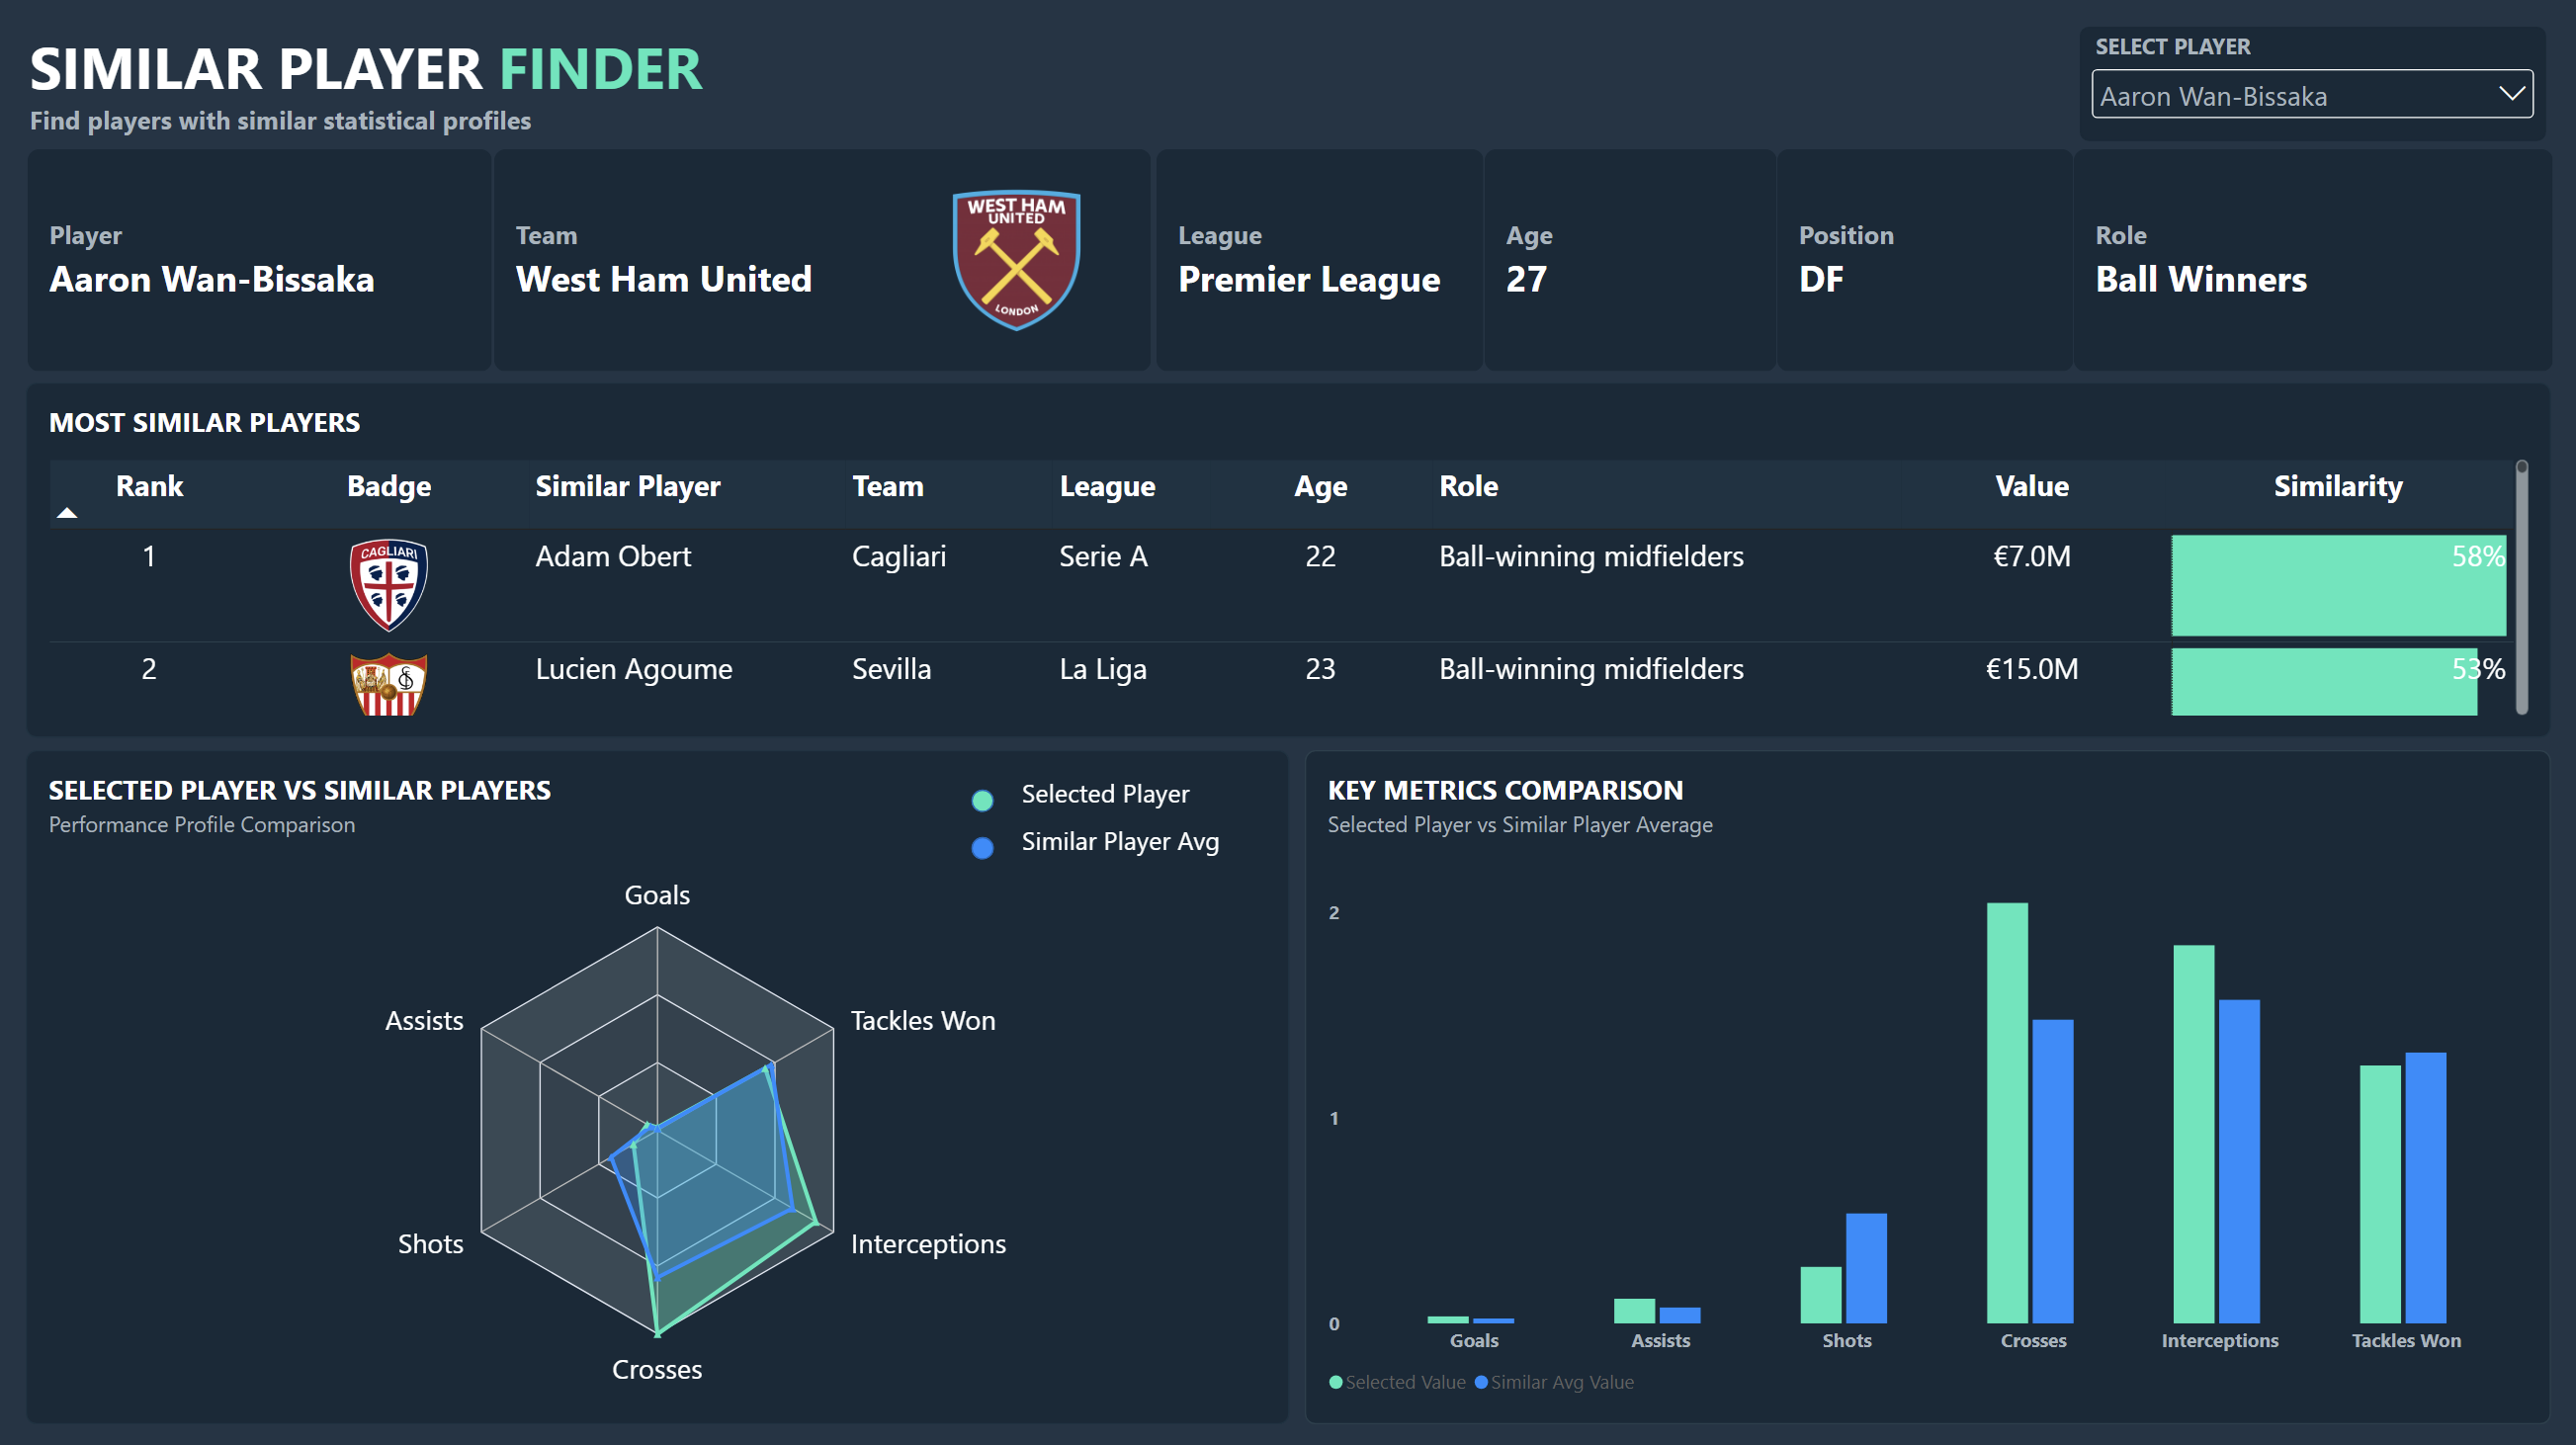

Layout of this report page (visuals, bound fields, positions):
{"tool":"powerbi","page":{"name":"Similar Players","canvas":[1920,1080],"ordinal":3},"visuals":[{"type":"textbox","box":[23.4,23.4,1876.5,86.9],"z":0},{"type":"cardVisual","fields":{"Data":["Profiles.Selected Player"]},"box":[22.5,115,348,165],"z":2000},{"type":"cardVisual","fields":{"Data":["Profiles.Selected Team"]},"box":[370,115,489,165],"z":3000},{"type":"cardVisual","fields":{"Data":["Profiles.Selected League"]},"box":[859,115,243,165.2],"z":4000},{"type":"cardVisual","fields":{"Data":["Profiles.Selected Age"]},"box":[1103,115,217.7,165.2],"z":5000},{"type":"cardVisual","fields":{"Data":["Profiles.Selected Position"]},"box":[1320.6,114.6,219,165.2],"z":6000},{"type":"cardVisual","fields":{"Data":["Profiles.Selected Role_1"]},"box":[1541,114.6,352.6,164.5],"z":7000},{"type":"tableEx","title":"MOST SIMILAR PLAYERS","fields":{"Values":["Similar.Rank","Similar.similar_badge_url","Similar.Similar Player","Similar.Similar Team","Similar.Similar League","Similar.Similar Age","Similar.Similar Role","Similar.Similar Value (EURm)","Similar.Similarity %"]},"box":[21,288,1876.4,264.2],"z":8000},{"type":"radarChart","title":"SELECTED PLAYER VS SIMILAR PLAYERS","fields":{"category":["Stat.StatName"],"measure":["Stat.Selected Value","Stat.Similar Avg Value"]},"box":[21,561.3,939,501],"z":9000},{"type":"shape","box":[720,582.3,23.6,34.1],"z":10000},{"type":"shape","box":[720,616.4,23.6,34.1],"z":11000},{"type":"textbox","box":[760.7,581,299,39.3],"z":12000},{"type":"textbox","box":[760.7,615.1,299,39.3],"z":13000},{"type":"clusteredColumnChart","title":"KEY METRICS COMPARISON","fields":{"Category":["Stat.StatName"],"Y":["Stat.Selected Value","Stat.Similar Avg Value"]},"box":[970.5,561.3,925.9,501],"z":14000},{"type":"slicer","fields":{"Values":["Profiles.Player"]},"box":[1547.5,23.6,346.7,85],"z":15000},{"type":"image","box":[667.5,135,180,125],"z":16000}]}

Visuals, with their boxes in screenshot pixels (x1, y1, x2, y2), scaled from the page's 1920x1080 canvas onto the 2576x1445 screenshot:
textbox: <region>32, 32, 2549, 147</region>
cardVisual - Profiles.Selected Player: <region>31, 154, 497, 375</region>
cardVisual - Profiles.Selected Team: <region>496, 154, 1153, 375</region>
cardVisual - Profiles.Selected League: <region>1153, 154, 1479, 375</region>
cardVisual - Profiles.Selected Age: <region>1480, 154, 1772, 375</region>
cardVisual - Profiles.Selected Position: <region>1771, 153, 2066, 375</region>
cardVisual - Profiles.Selected Role_1: <region>2068, 153, 2540, 374</region>
"MOST SIMILAR PLAYERS" tableEx: <region>29, 385, 2545, 739</region>
"SELECTED PLAYER VS SIMILAR PLAYERS" radarChart: <region>29, 751, 1288, 1421</region>
shape: <region>966, 779, 997, 824</region>
shape: <region>966, 824, 997, 871</region>
textbox: <region>1020, 778, 1421, 830</region>
textbox: <region>1020, 823, 1421, 876</region>
"KEY METRICS COMPARISON" clusteredColumnChart: <region>1302, 751, 2544, 1421</region>
slicer - Profiles.Player: <region>2076, 32, 2541, 145</region>
image: <region>896, 181, 1137, 348</region>
